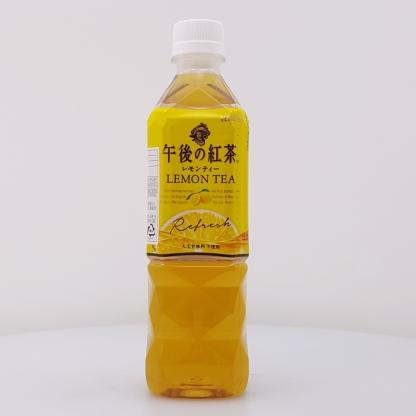--------------500ml: (145, 17, 251, 400)
